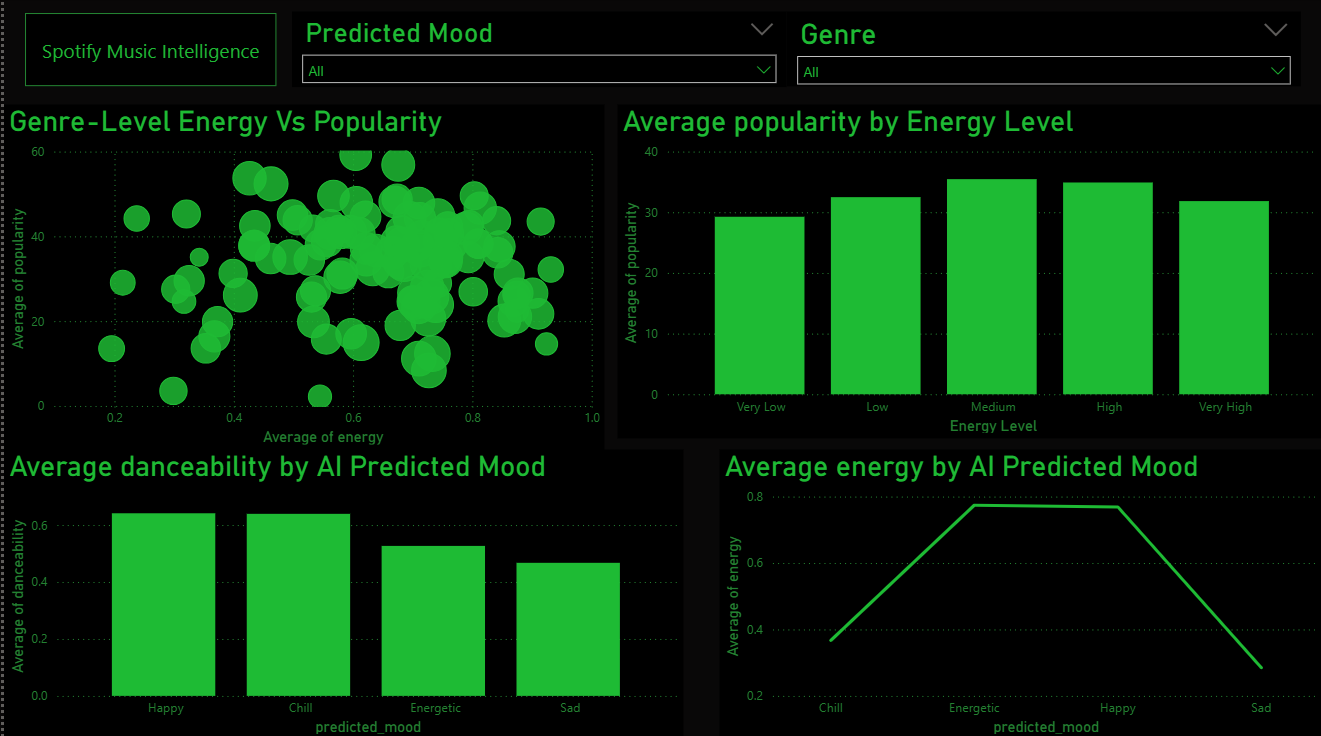

Layout of this report page (visuals, bound fields, positions):
{"tool":"powerbi","page":{"name":"Music Trends","canvas":[1280,720],"ordinal":1},"visuals":[{"type":"scatterChart","title":"Genre-Level Energy Vs Popularity","fields":{"X":["Avg(spotify_mood_prediction.energy)"],"Y":["Avg(spotify_mood_prediction.popularity)"],"Size":["Avg(spotify_mood_prediction.danceability)"],"Category":["spotify_mood_prediction.track_genre"]},"box":[0,103.6,582.9,335.2],"z":0},{"type":"clusteredColumnChart","title":"Average popularity by Energy Level","fields":{"Category":["spotify_mood_prediction.Energy Level"],"Y":["Avg(spotify_mood_prediction.popularity)"]},"box":[595.9,103.6,684.9,323.8],"z":1000},{"type":"lineChart","title":"Average energy by AI Predicted Mood","fields":{"Category":["spotify_mood_prediction.predicted_mood"],"Y":["Avg(spotify_mood_prediction.energy)"]},"box":[694.6,438.8,586.2,281.7],"z":2000},{"type":"clusteredColumnChart","title":"Average danceability by AI Predicted Mood","fields":{"Category":["spotify_mood_prediction.predicted_mood"],"Y":["Avg(spotify_mood_prediction.danceability)"]},"box":[0,438.8,659,281.7],"z":3000},{"type":"slicer","fields":{"Values":["spotify_mood_prediction.predicted_mood"]},"box":[280,13.3,480,73.3],"z":5000},{"type":"slicer","fields":{"Values":["spotify_mood_prediction.track_genre"]},"box":[759.4,13,498.7,72.9],"z":6000},{"type":"pageNavigator","box":[21,14.6,244.5,71.2],"z":7000}]}

Visuals, with their boxes in screenshot pixels (x1, y1, x2, y2), scaled from the page's 1280x720 canvas onto the 1321x736 screenshot:
"Genre-Level Energy Vs Popularity" scatterChart: x1=0, y1=106, x2=602, y2=449
"Average popularity by Energy Level" clusteredColumnChart: x1=615, y1=106, x2=1320, y2=437
"Average energy by AI Predicted Mood" lineChart: x1=717, y1=449, x2=1320, y2=735
"Average danceability by AI Predicted Mood" clusteredColumnChart: x1=0, y1=449, x2=680, y2=735
slicer - spotify_mood_prediction.predicted_mood: x1=289, y1=14, x2=784, y2=89
slicer - spotify_mood_prediction.track_genre: x1=784, y1=13, x2=1298, y2=88
pageNavigator: x1=22, y1=15, x2=274, y2=88
